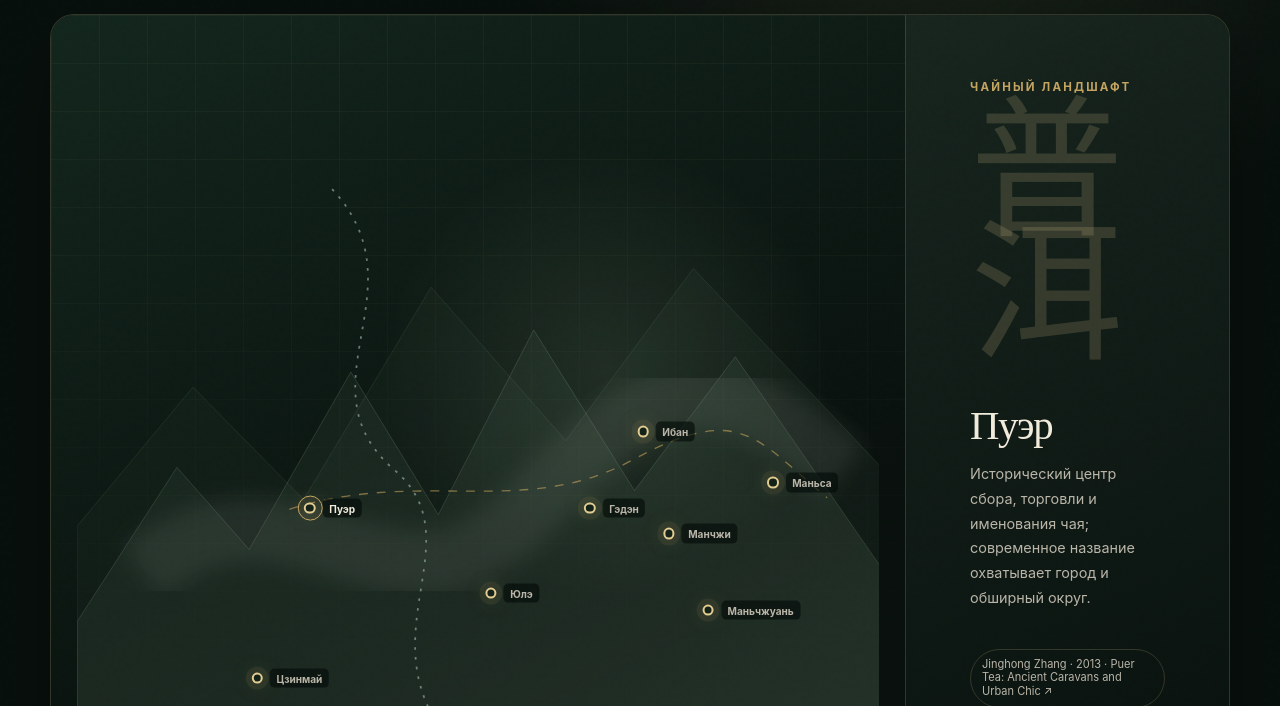
Test: TeaMountainsMap › attributes the Yibang taste note to Chai E rather than Zhao Xueming
(page scrolled)
Click the button "Ибан". click: (666, 432)
box: [632,416,700,447]
(page scrolled)
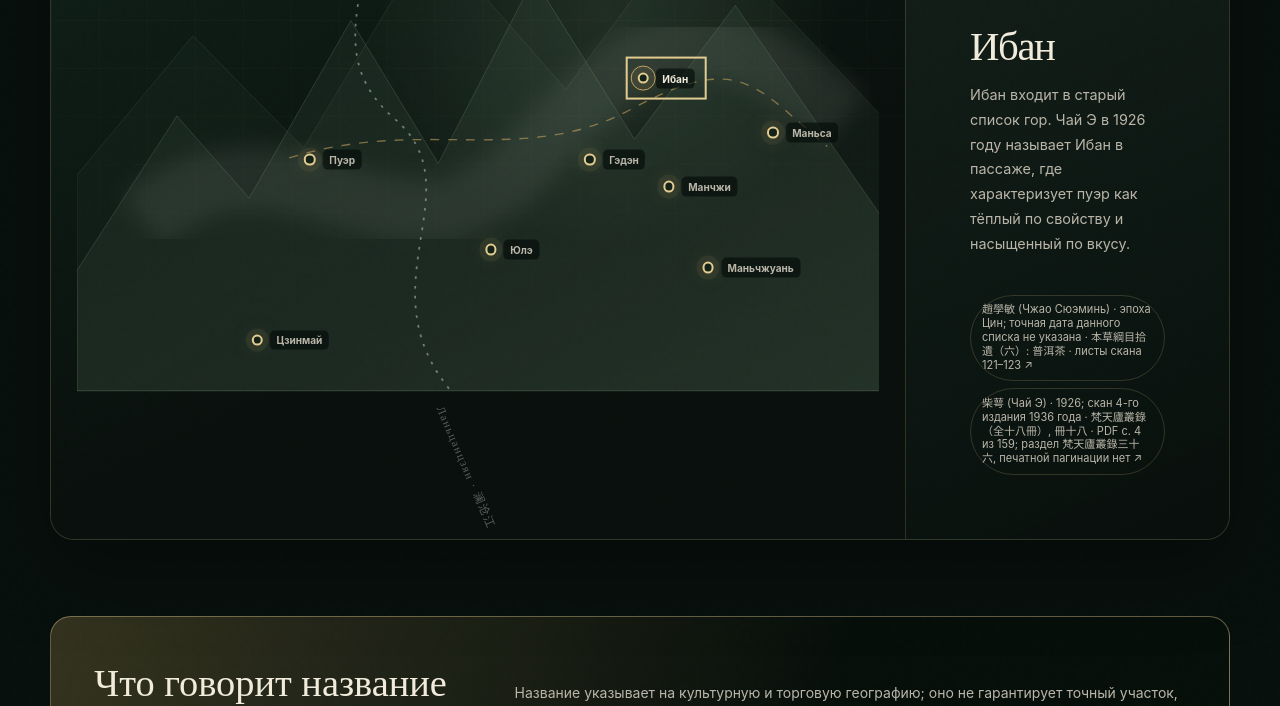
Now the heading "Ибан" is shown, box [970,24,1054,69]
Now the link "Чай Э" is shown, box [970,388,1165,475]
